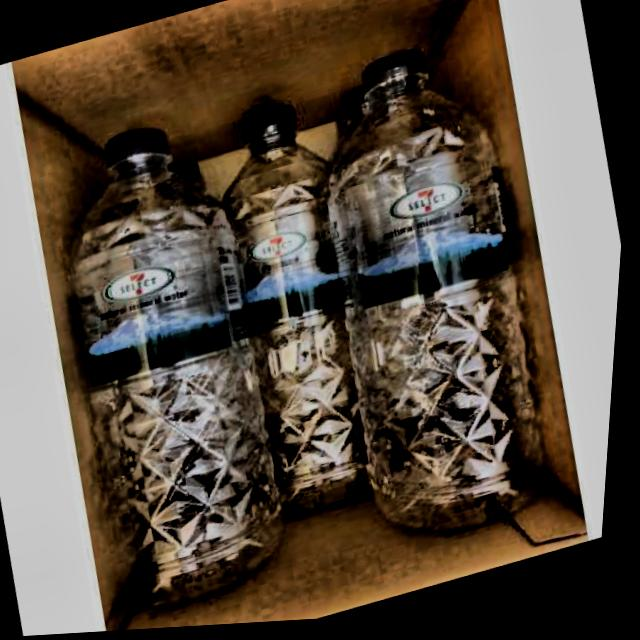Bottles: (292, 22, 618, 569), (2, 72, 317, 638), (169, 67, 443, 543)
